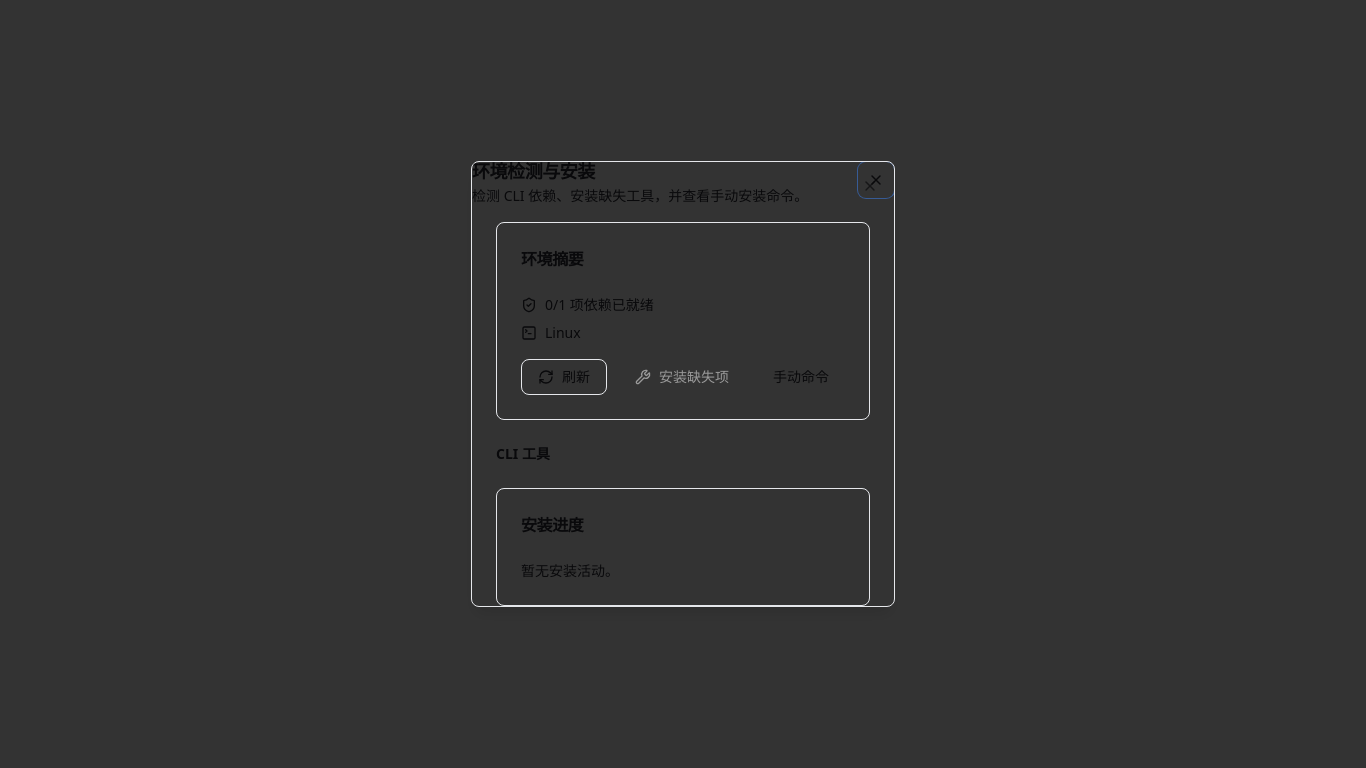
Test case: shows manual commands on linux
Click the button "手动命令". click: (801, 377)
box: [757,359,845,395]
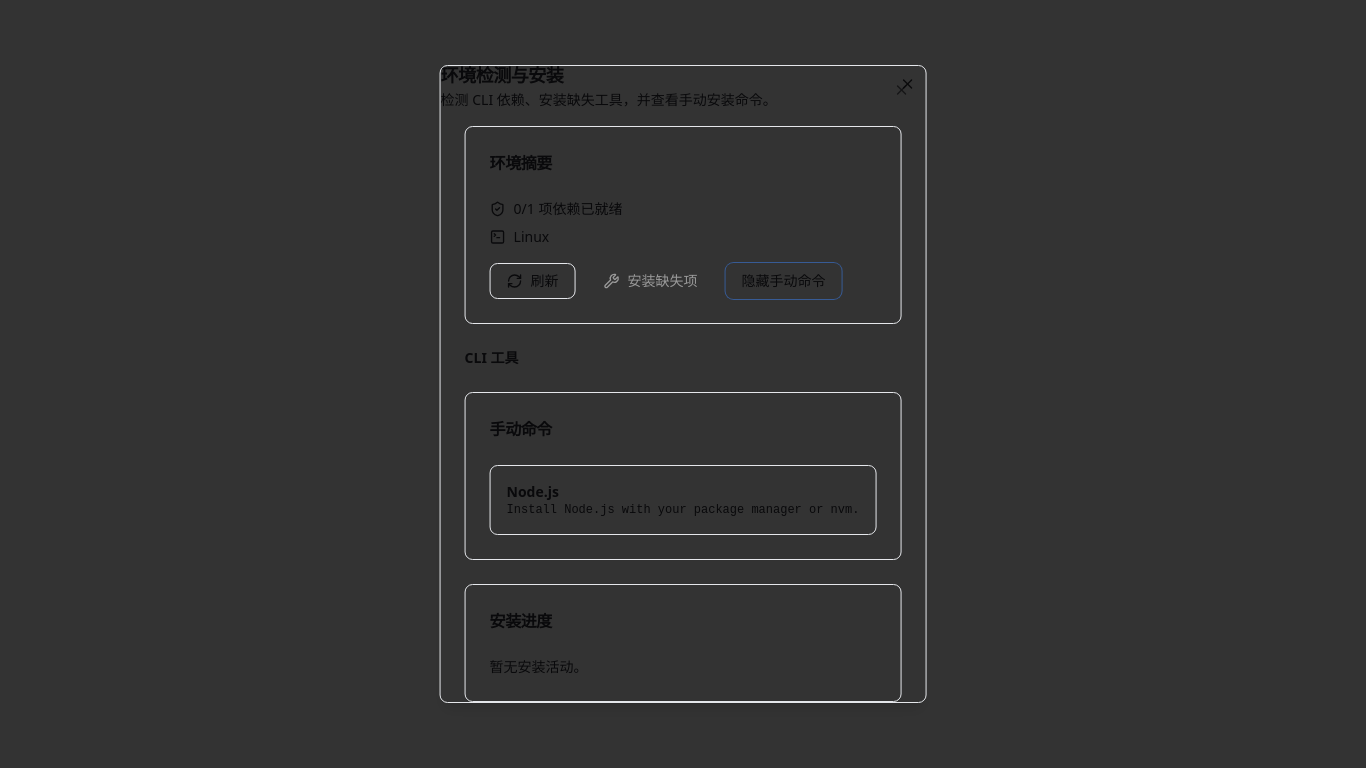
Result: the text "Install Node.js with your package manager or nvm." is shown at [507,503,860,517]
